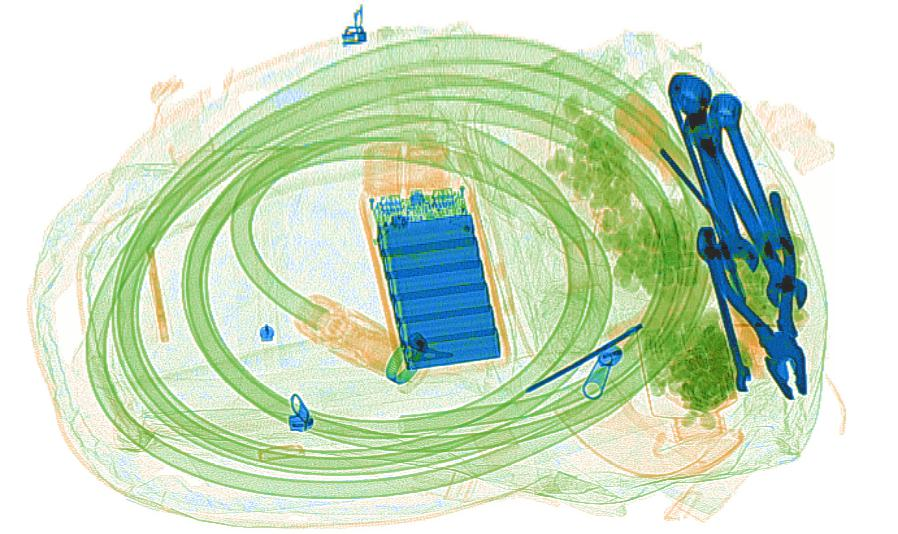battery: (361, 185, 516, 379)
